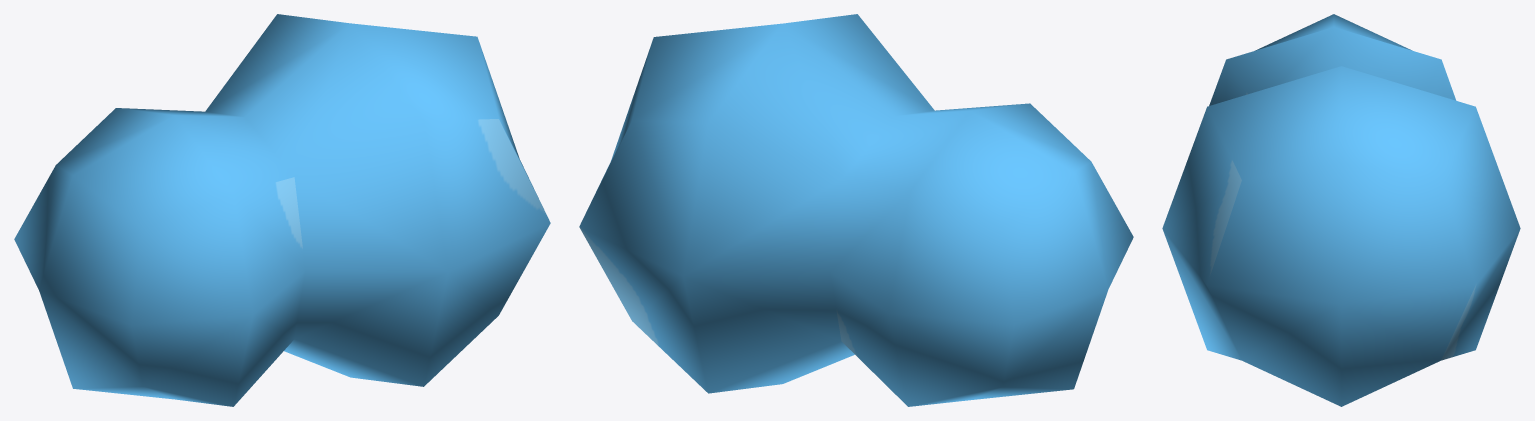
The model's file is bubbles2.fbx.
The picture shows the model from 3 angles, left to right: view 1: azimuth 30°, elevation 25°; view 2: azimuth 150°, elevation 25°; view 3: azimuth 270°, elevation 25°; orthographic projection. The views are drawn at different scales.
Parts seen in each view (by area): view 1: bubble_MESH; view 2: bubble_MESH; view 3: bubble_MESH.
Boxes of the visible parts, left/top/right/bottom form: bubble_MESH: left=14, top=14, right=550, bottom=406; bubble_MESH: left=579, top=14, right=1133, bottom=406; bubble_MESH: left=1162, top=14, right=1520, bottom=406.
Size of the model in its own units: 0.8738 by 0.61 by 0.61.
